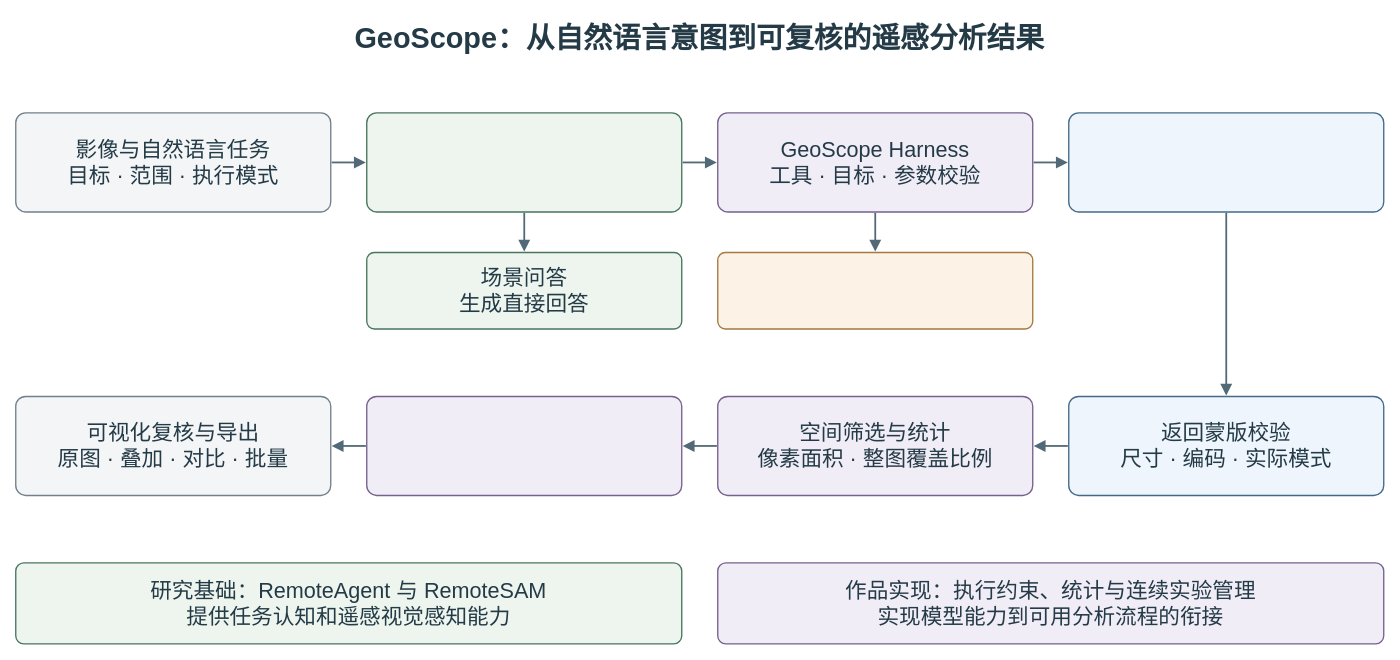
This 1400x660 diagram has some shape labels left out. Here are the shapes that lost their labels. From the top down, the centre of each, then its label:
At point 524,162: "RemoteAgent 意图理解与任务规划".
At point 1226,162: "RemoteSAM 文本引导的像素级分割".
At point 875,290: "条件不足或调用不合法 澄清或拒绝，并保存原因".
At point 524,445: "实验版本与结果保存 参数 · 产物 · 日志关联".
